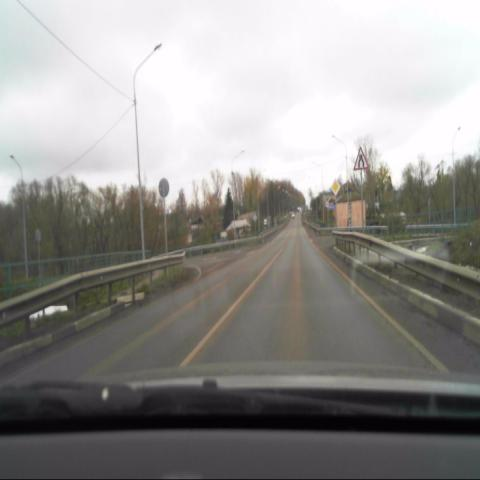1_20: (353, 146, 368, 172)
